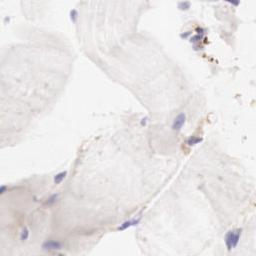nucleus: (53, 167, 69, 184), (174, 112, 186, 131), (232, 227, 242, 249), (40, 240, 63, 249), (43, 193, 61, 204), (178, 1, 193, 11), (139, 116, 151, 128), (20, 227, 30, 241), (225, 231, 232, 251), (189, 33, 204, 42), (186, 137, 205, 144), (70, 9, 78, 23), (122, 219, 132, 230), (224, 1, 239, 7), (180, 31, 190, 38), (133, 218, 142, 225), (192, 43, 199, 51), (1, 185, 7, 193), (4, 17, 10, 24), (199, 30, 208, 34), (118, 225, 122, 231)
positive_cell: (181, 113, 213, 155), (202, 24, 212, 48), (189, 36, 203, 52), (179, 24, 194, 38), (191, 20, 203, 35)
